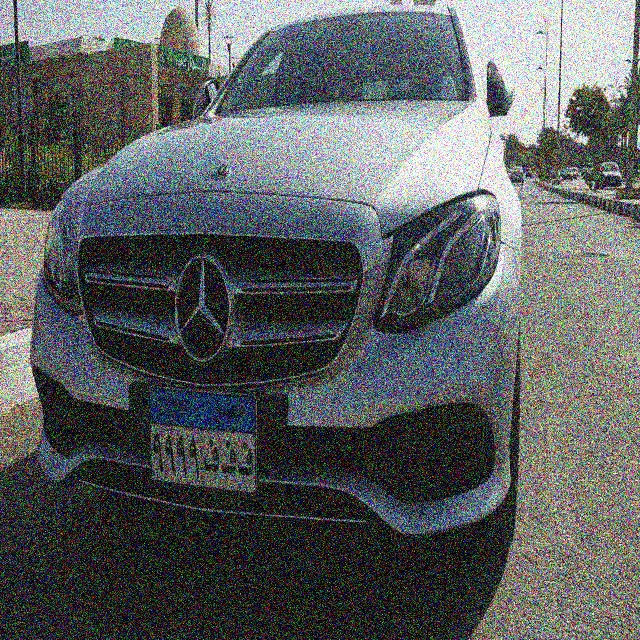License Plate: (146, 381, 260, 501)
